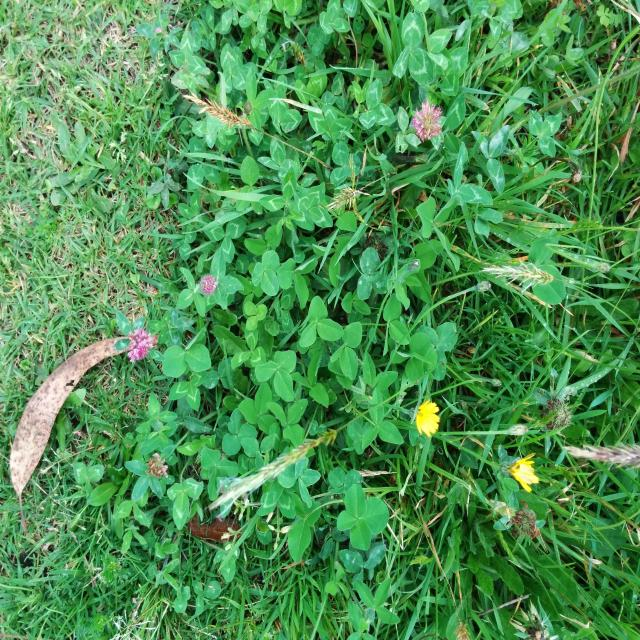Four Leaf Clover: (337, 484, 389, 550)
